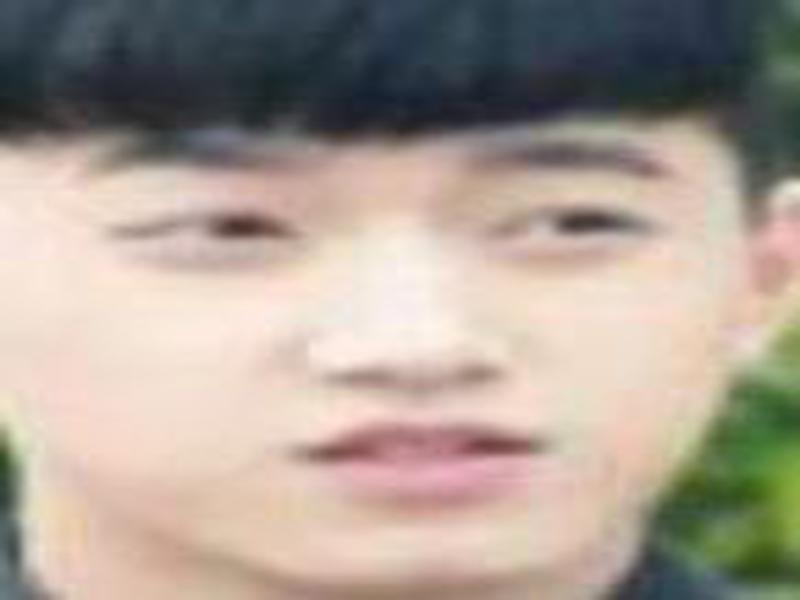without_mask: (8, 78, 746, 600)
